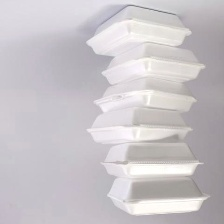foam_box: (82, 3, 194, 59), (96, 40, 209, 87), (102, 172, 214, 219), (82, 104, 196, 148), (90, 74, 200, 119), (94, 139, 207, 182)
